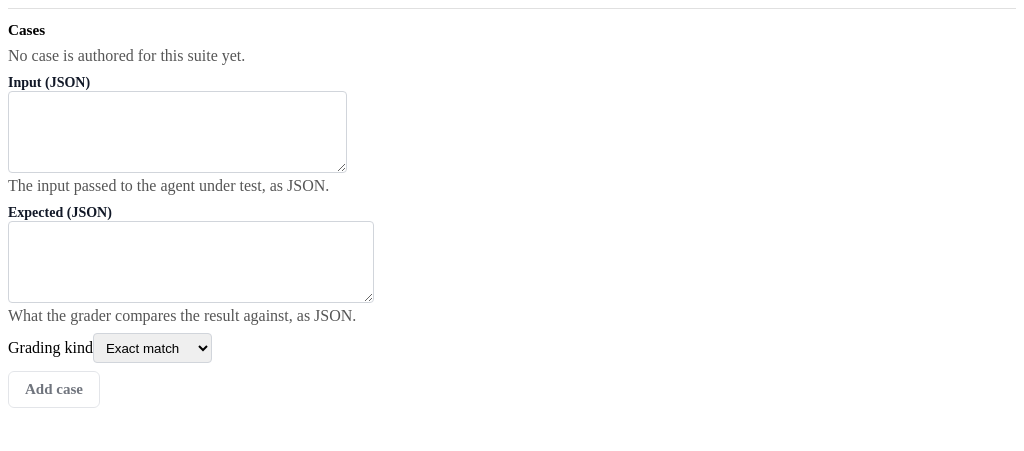
EvalCasesPanel › invalid JSON in either field is refused locally
This screenshot has width=1024, height=451.
Type "not json" into the text box labelled "Input (JSON)" at x=178, y=132, box [8,91,347,173]
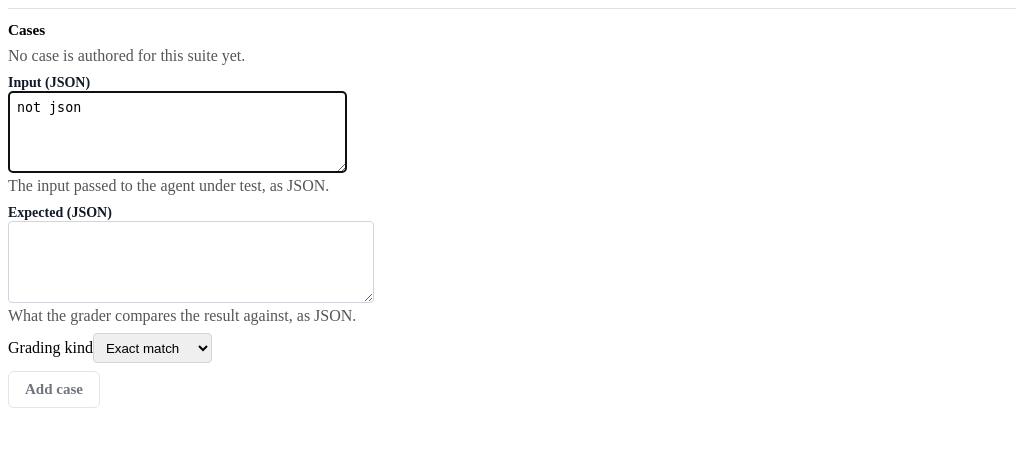
Type "1" into the text box labelled "Expected (JSON)" at x=191, y=262, box [8,221,374,303]
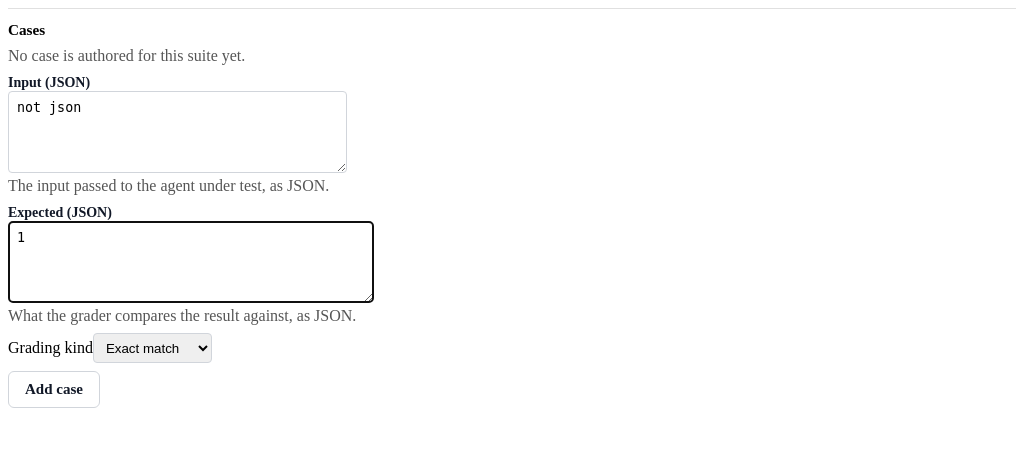
Click the button "Add case" at x=54, y=390, box [8,371,100,408]
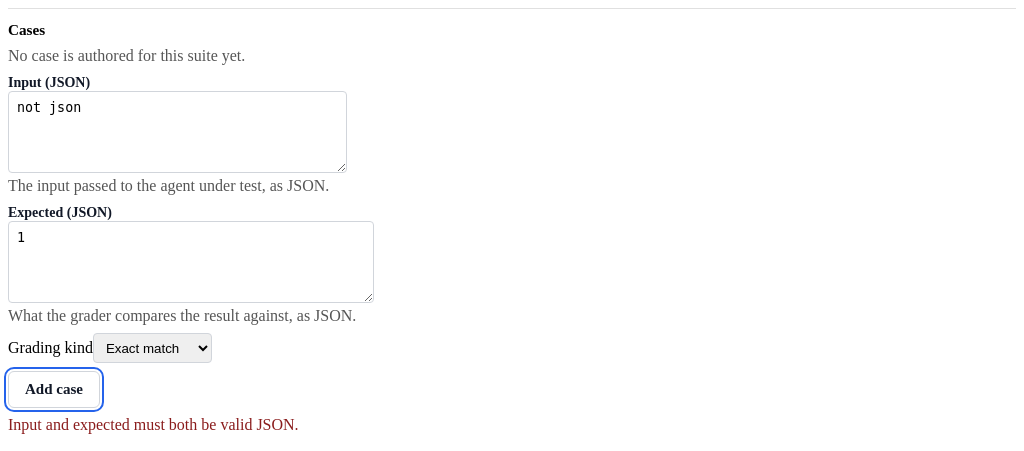
Expected: the message reads "Input and expected must both be valid JSON.", [8,416,299,433]
